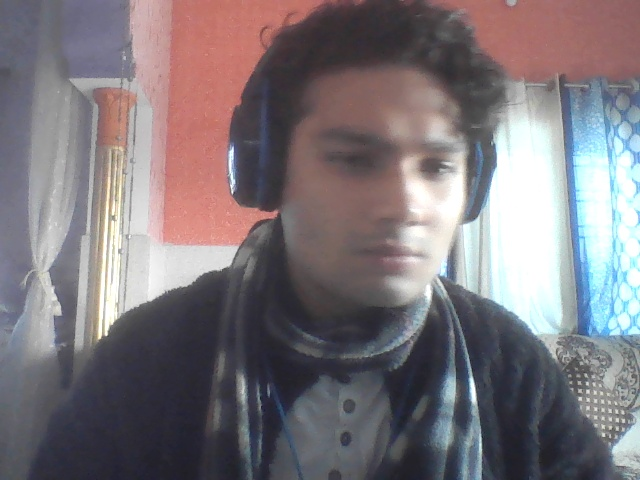real: (251, 0, 491, 340)
